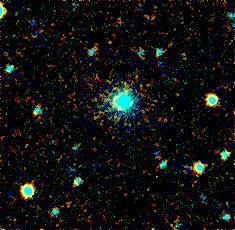star: (212, 189, 235, 219)
